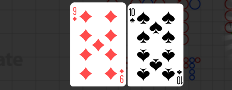10C: (128, 6, 136, 23)
9D: (71, 5, 78, 22)
